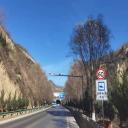speed_limit_60: (96, 68, 106, 79)
